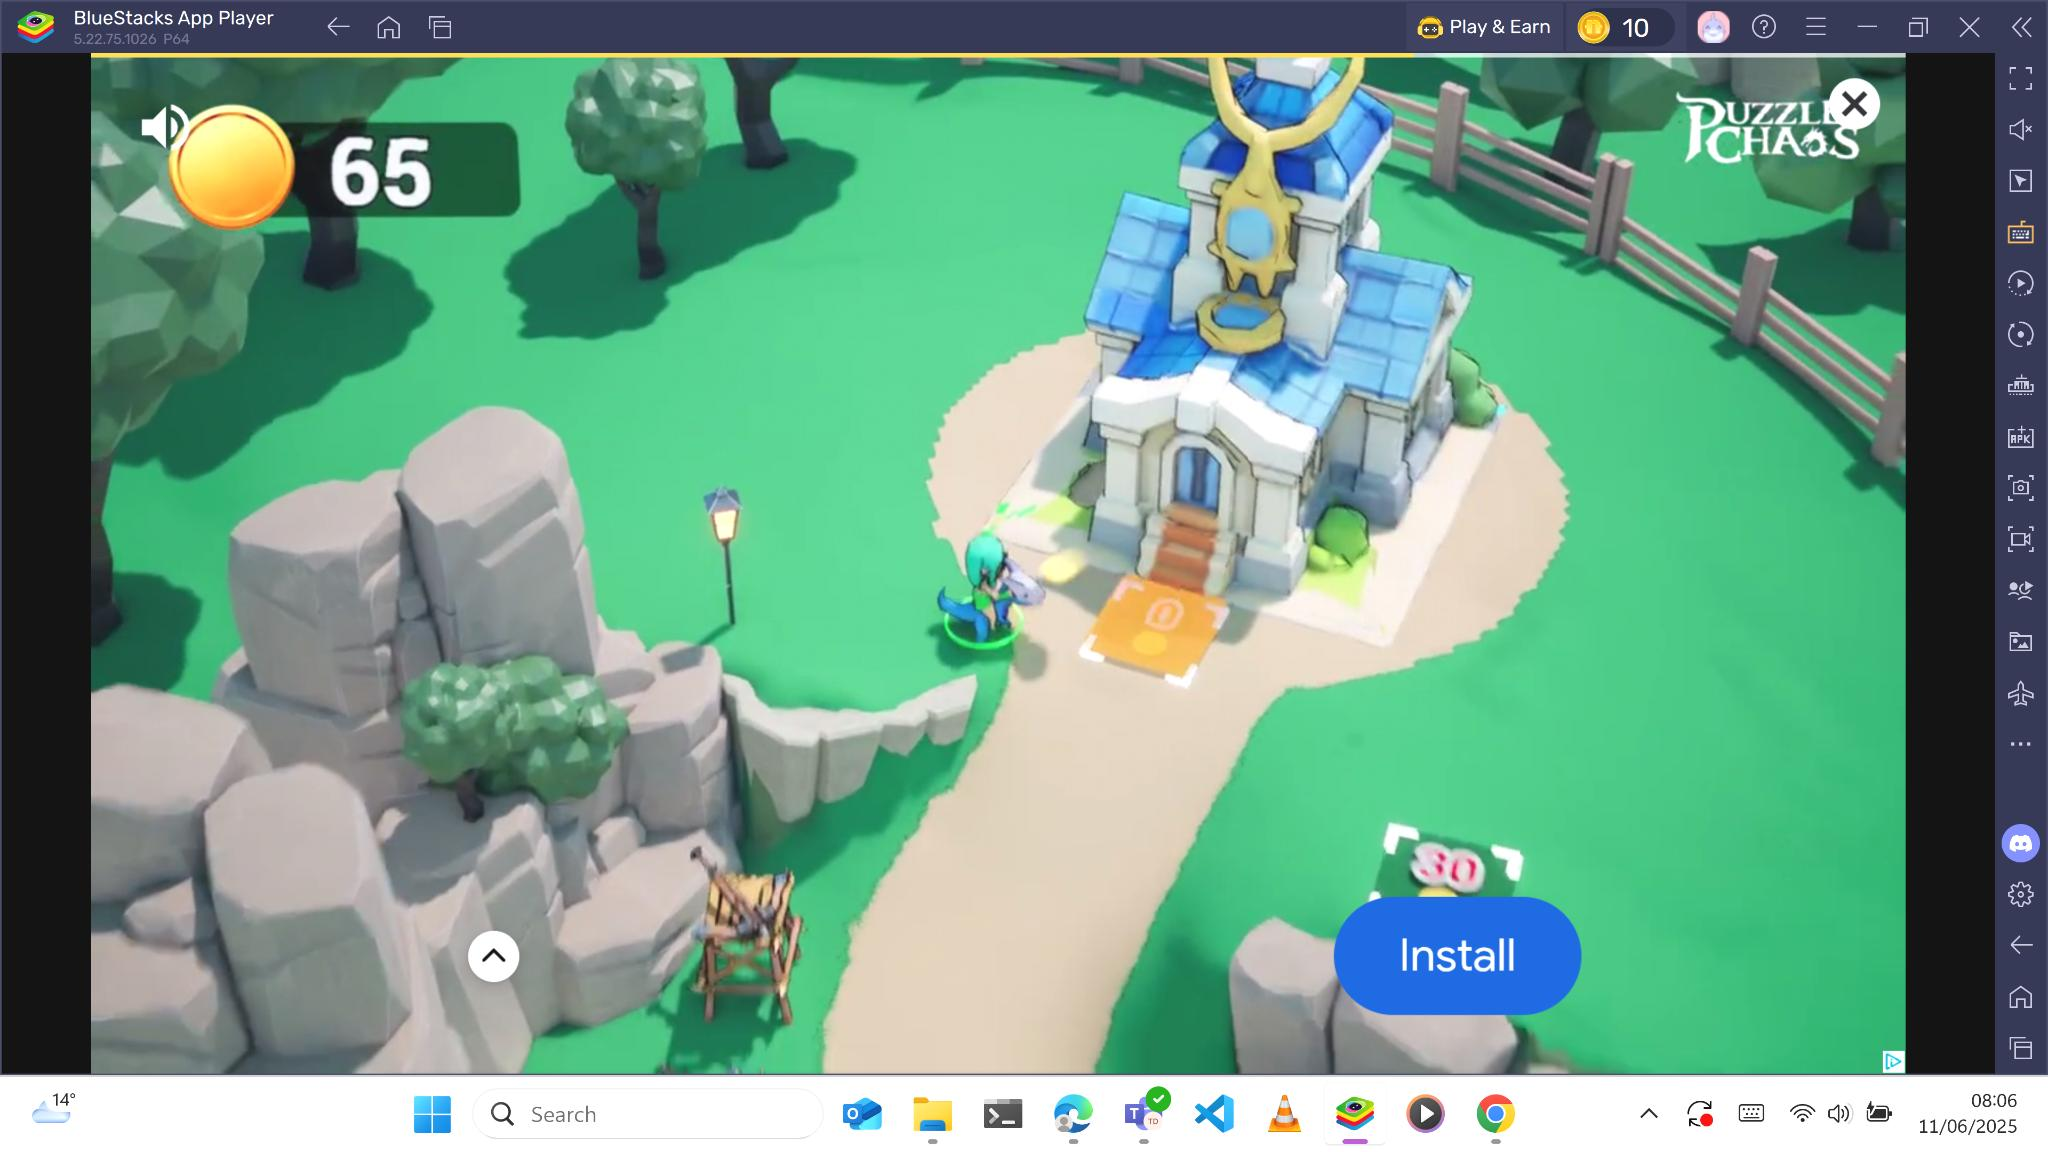close_ad: (1827, 77, 1883, 132)
